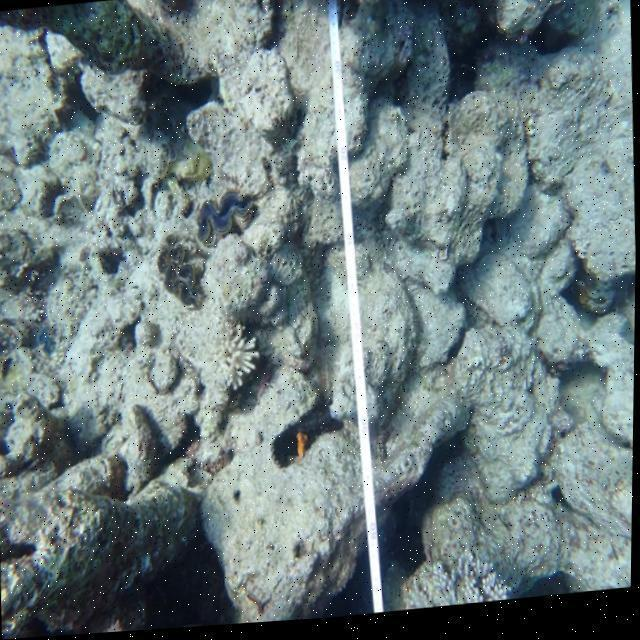Bleached Coral: (394, 536, 522, 616), (185, 315, 278, 399)
